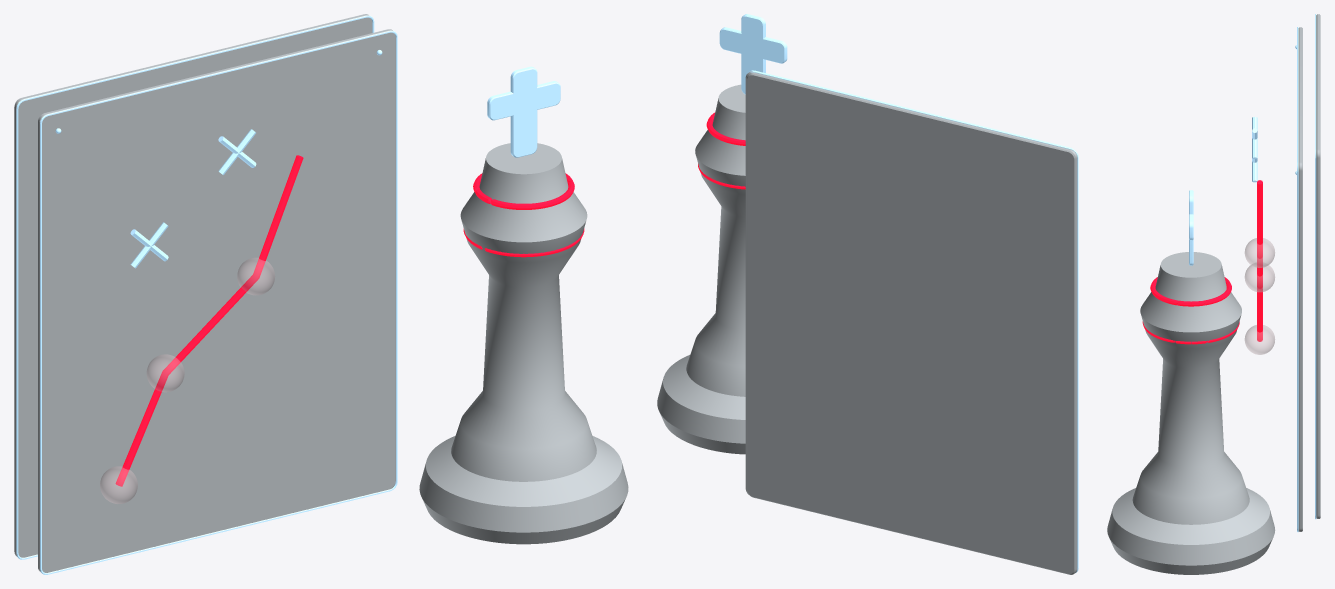
Rendered from 25-strategy.glb.
3 renders of one model, left to right at view 1: azimuth 30°, elevation 25°; view 2: azimuth 150°, elevation 25°; view 3: azimuth 270°, elevation 25°, orthographic. The views are drawn at different scales.
Parts seen in each view (by area): view 1: BC thin clear technical glass, BC cool glass edge, BC ruby signal edge, BC subtle ruby technical glass; view 2: BC thin clear technical glass, BC cool glass edge; view 3: BC thin clear technical glass, BC cool glass edge, BC subtle ruby technical glass, BC ruby signal edge.
Part boxes in pixels (x1,y1,x2,y2): BC thin clear technical glass: [14, 14, 628, 572]; BC cool glass edge: [16, 15, 560, 574]; BC ruby signal edge: [115, 155, 584, 486]; BC subtle ruby technical glass: [100, 257, 275, 503]; BC thin clear technical glass: [657, 71, 1077, 574]; BC cool glass edge: [719, 14, 1078, 572]; BC thin clear technical glass: [1107, 14, 1320, 574]; BC cool glass edge: [1189, 14, 1316, 532]; BC subtle ruby technical glass: [1244, 238, 1274, 354]; BC ruby signal edge: [1142, 180, 1262, 344].
Size of the model in its own units: 1.9 by 1.64 by 0.839.
